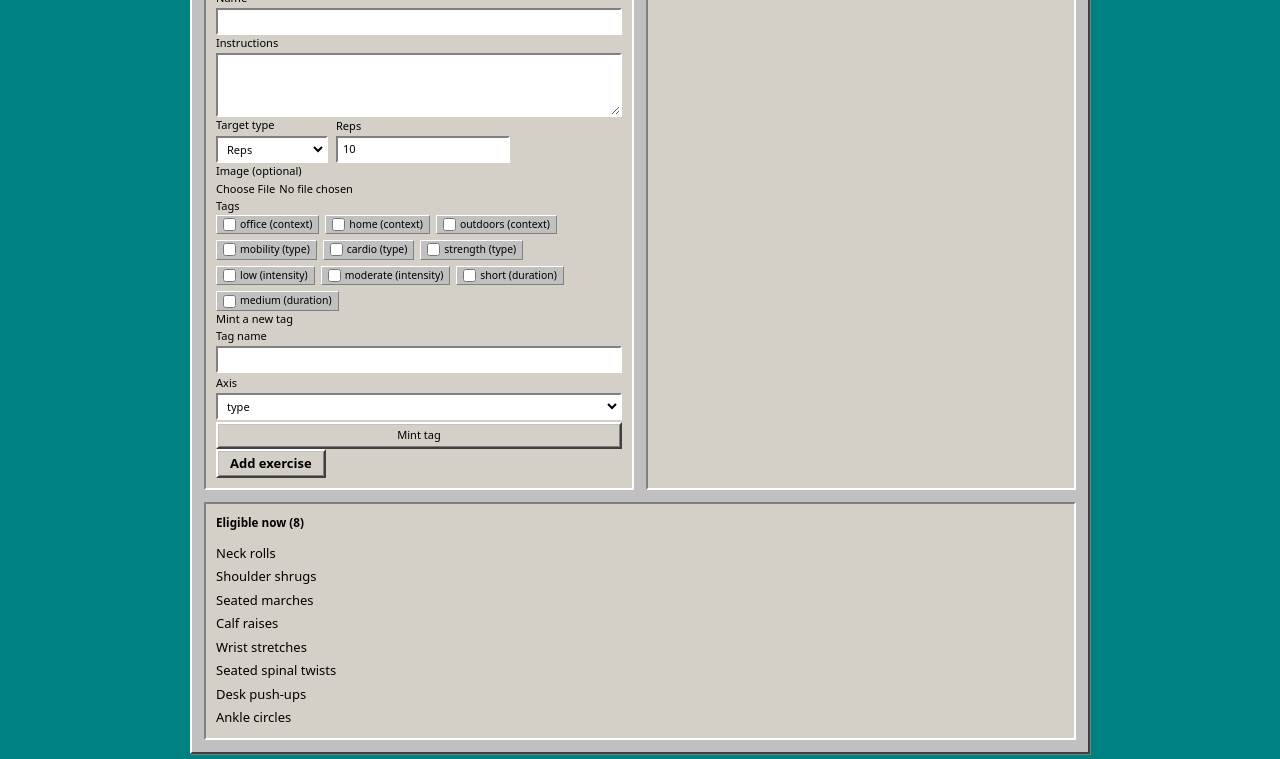
Move app — flows › a custom exercise tagged with a newly minted tag becomes eligible
(page scrolled)
# Mint a fresh non-context, non-equipment tag so the exercise stays eligible.
Type "focus" into the field labelled "Tag name" at (419, 359), box [216,346,622,373]
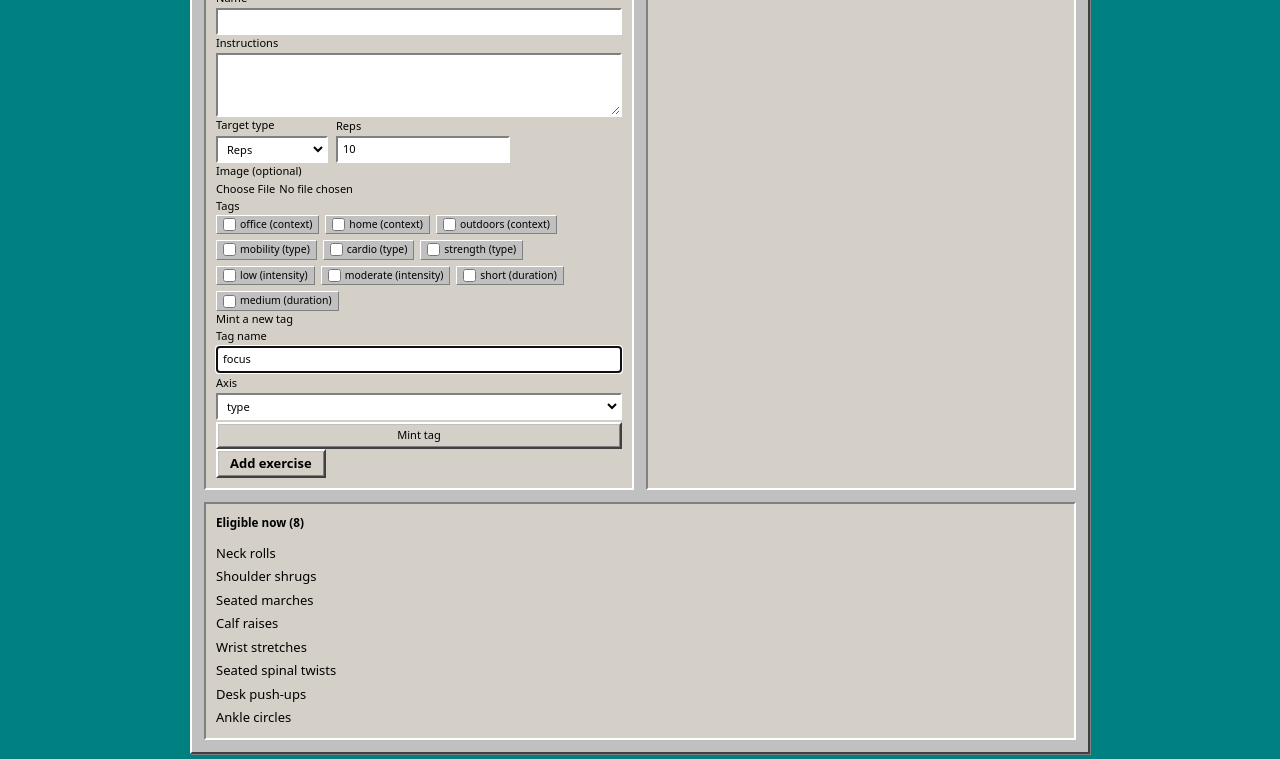
Select "type" in the dropdown labelled "Axis" at (419, 407), box [216,393,622,420]
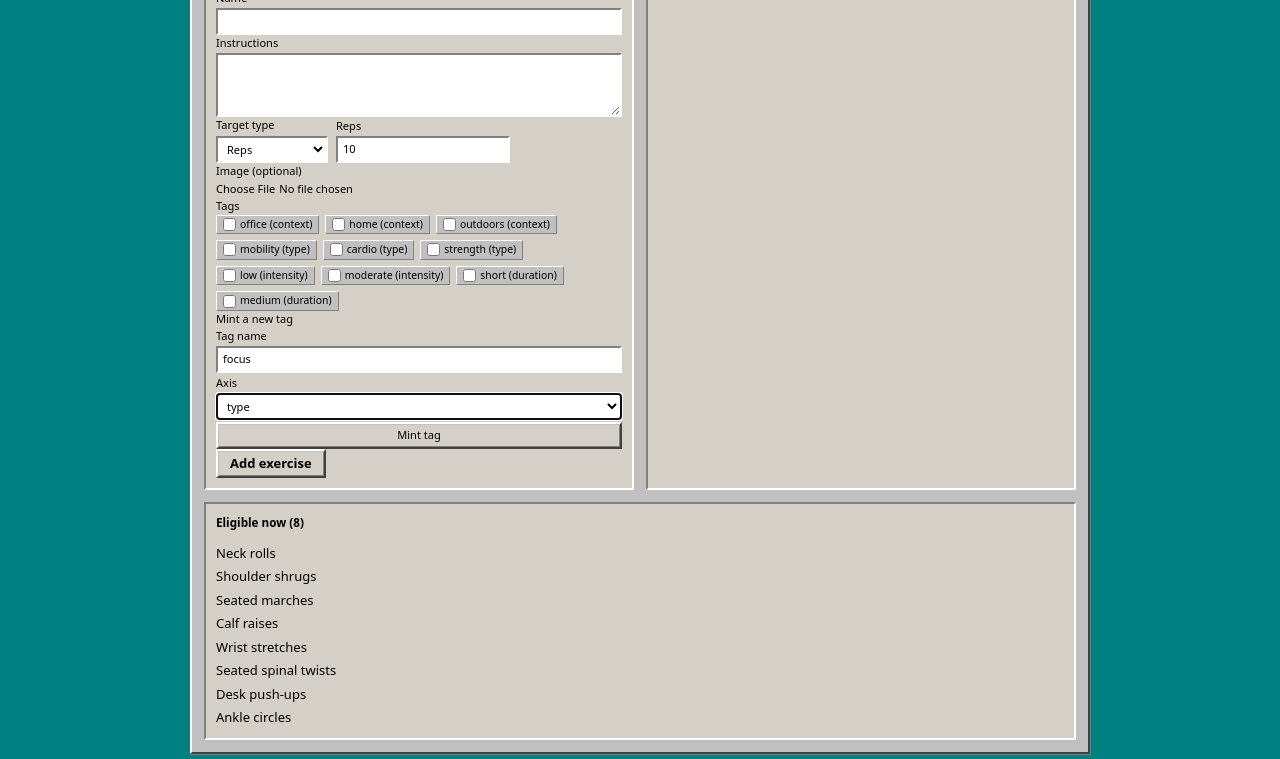
Click the button "Mint tag" at (419, 436), box [216,422,622,449]
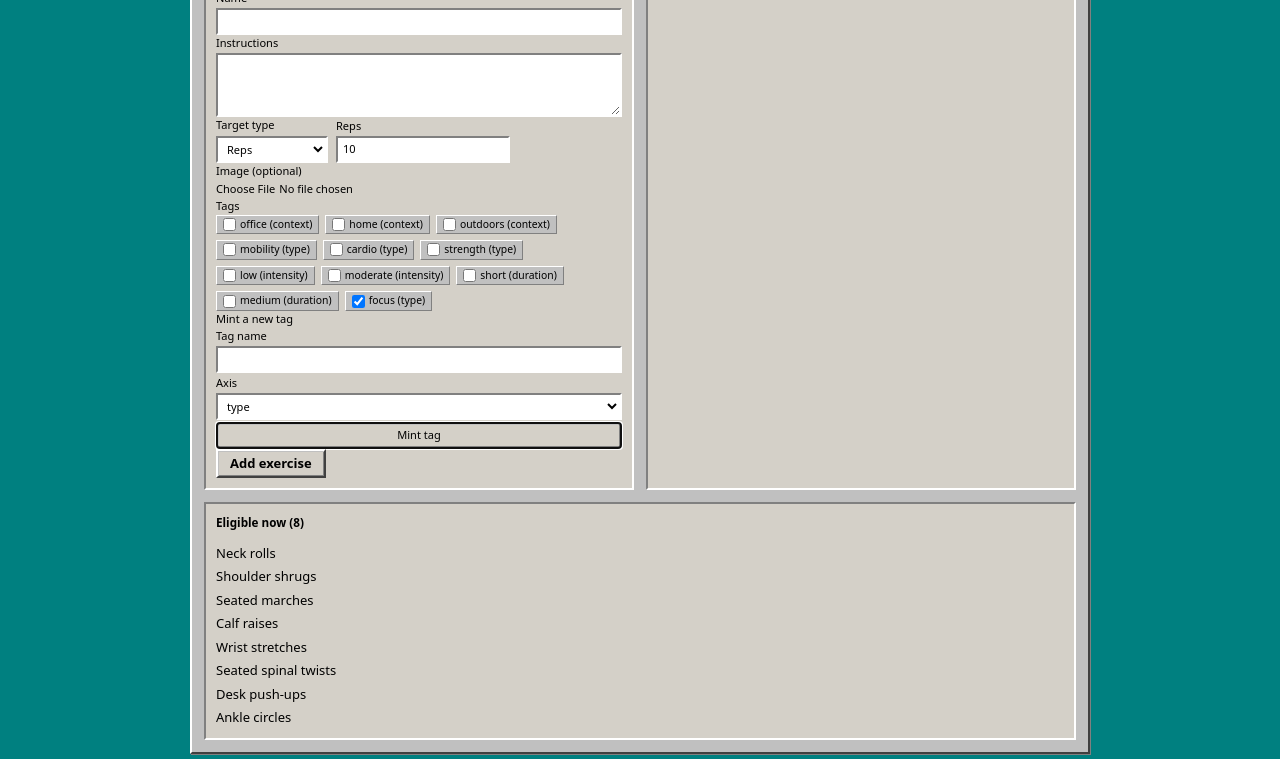
# Create the custom exercise (the minted tag is auto-selected).
Type "Deep breathing" into the field labelled "Name" at (419, 22), box [216,8,622,35]
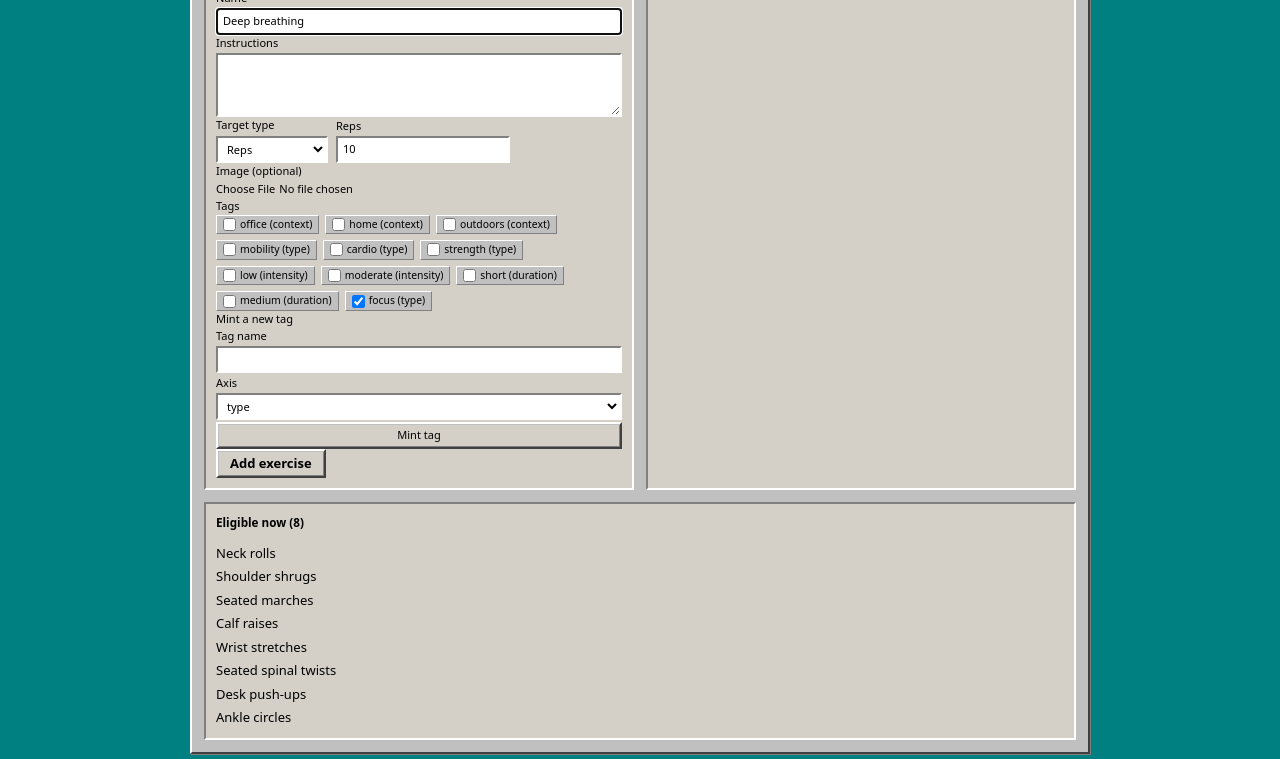
Click the button "Add exercise" at (271, 464), box [216,449,326,478]
(page scrolled)
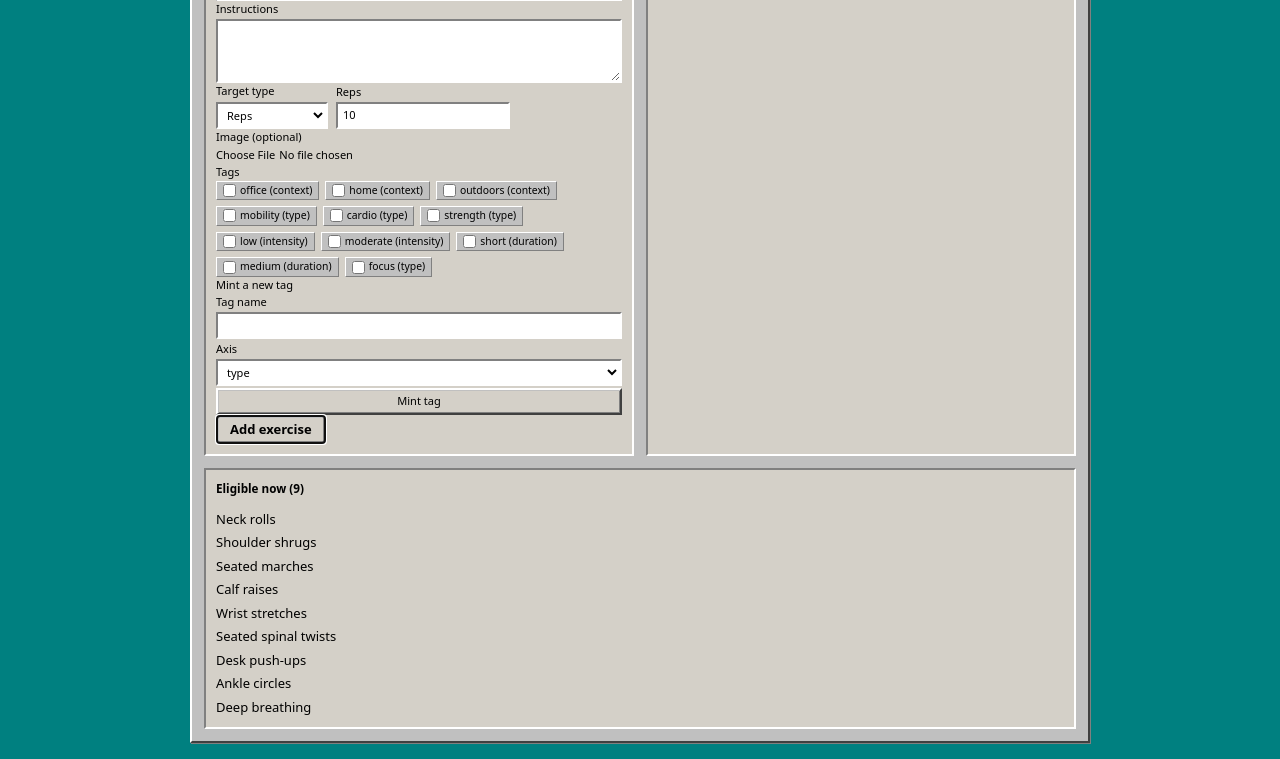
Expected: the list item "Deep breathing" is shown, [216,698,311,716]
